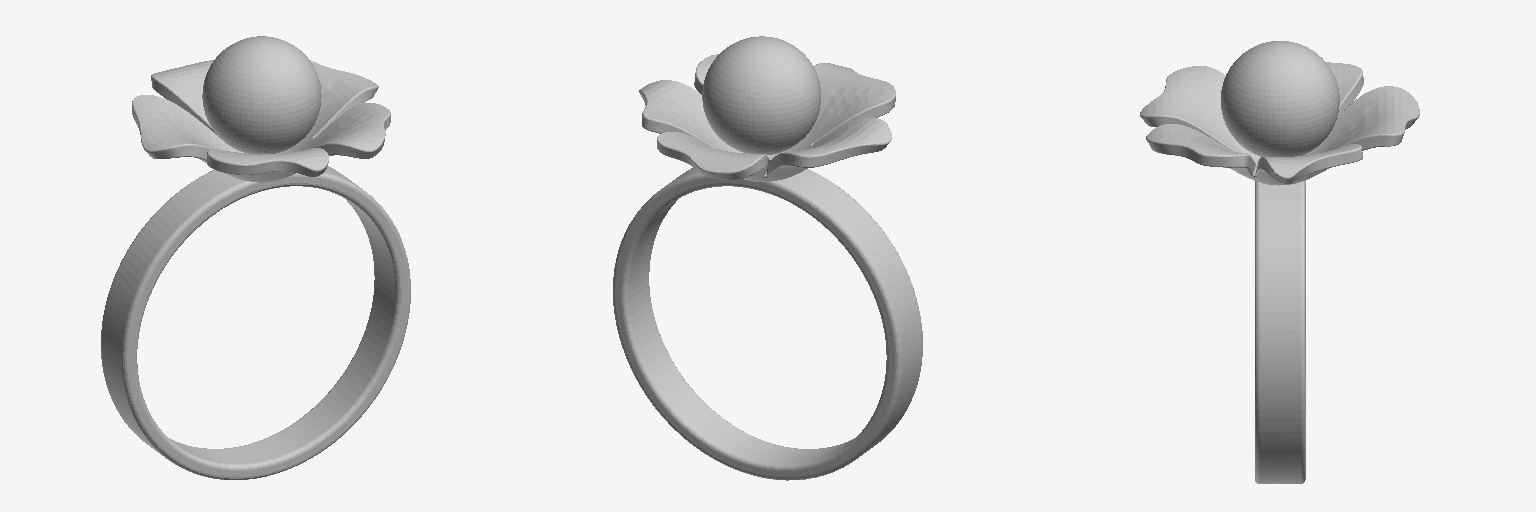
File: anel.obj
The picture shows the model from 3 angles: view 1: azimuth 30°, elevation 25°; view 2: azimuth 150°, elevation 25°; view 3: azimuth 270°, elevation 25°; orthographic projection.
Bounding box in the file's own units: 19.56 × 27.54 × 16.45.